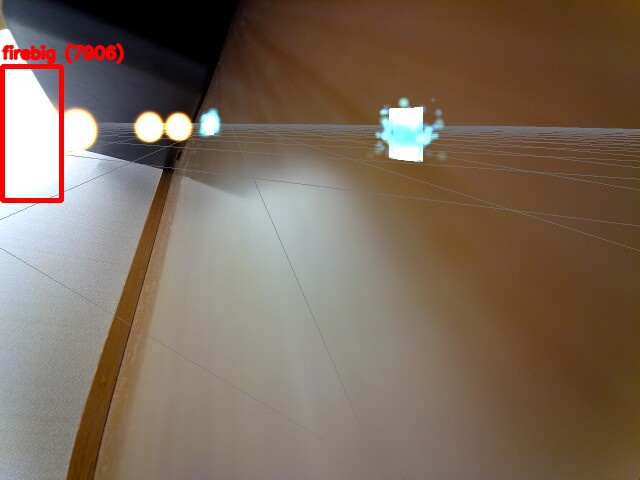firebig: (2, 66, 61, 200)
